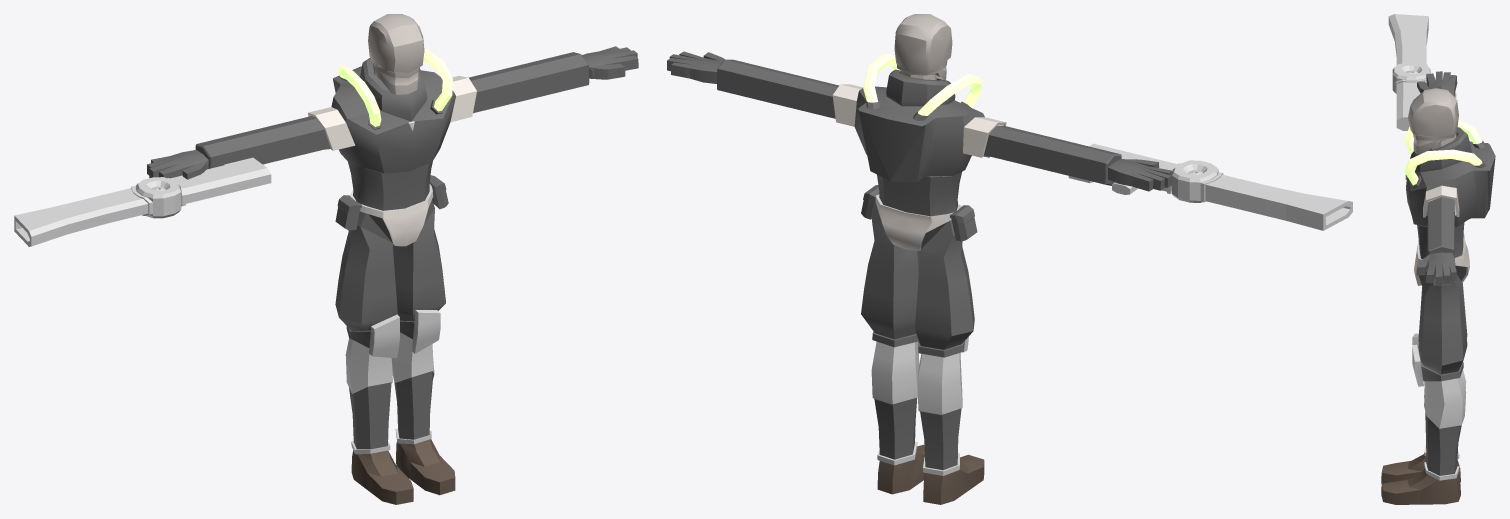
Rendered from Hell_Grunt_Rig2.fbx.
3 views of the same model, side by side, from view 1: azimuth 30°, elevation 25°; view 2: azimuth 150°, elevation 25°; view 3: azimuth 270°, elevation 25° (orthographic). The views are drawn at different scales.
Parts seen in each view (by area): view 1: Chest, Cube, Leg_left.001, Thigh_Right, Leg_left, Thigh_Left, Head, Stomach, ForeArm_Left, Pelvis, ForeArm_Right, Arm_Right (+6 smaller); view 2: Chest, Cube, Thigh_Right, Leg_left, Leg_left.001, Thigh_Left, Head, Stomach, ForeArm_Right, Pelvis, ForeArm_Left, Arm_Right (+3 smaller); view 3: Chest, Leg_left, Thigh_Left, Cube, Head, footback_left, ForeArm_Left, footfront_left, Pelvis, Arm_Left, footfront_right, Stomach (+5 smaller).
Part boxes in pixels (left/top/right/bottom): Chest: left=308, top=49, right=476, bottom=173; Cube: left=14, top=157, right=271, bottom=246; Leg_left.001: left=345, top=314, right=399, bottom=454; Thigh_Right: left=335, top=225, right=397, bottom=331; Leg_left: left=391, top=310, right=440, bottom=444; Thigh_Left: left=392, top=209, right=445, bottom=321; Head: left=368, top=14, right=424, bottom=94; Stomach: left=348, top=161, right=432, bottom=210; ForeArm_Left: left=507, top=52, right=589, bottom=101; Pelvis: left=349, top=184, right=434, bottom=246; ForeArm_Right: left=195, top=128, right=278, bottom=168; Arm_Right: left=263, top=116, right=330, bottom=160; Chest: left=832, top=54, right=1006, bottom=182; Cube: left=1068, top=143, right=1352, bottom=230; Thigh_Right: left=915, top=236, right=974, bottom=349; Leg_left: left=871, top=331, right=919, bottom=465; Leg_left.001: left=917, top=336, right=968, bottom=475; Thigh_Left: left=861, top=217, right=920, bottom=339; Head: left=894, top=14, right=952, bottom=80; Stomach: left=877, top=172, right=961, bottom=216; ForeArm_Right: left=1037, top=137, right=1121, bottom=185; Pelvis: left=871, top=194, right=961, bottom=250; ForeArm_Left: left=717, top=59, right=800, bottom=106; Arm_Right: left=983, top=125, right=1051, bottom=167; Chest: left=1404, top=119, right=1495, bottom=226; Leg_left: left=1412, top=344, right=1466, bottom=480; Thigh_Left: left=1418, top=280, right=1467, bottom=374; Cube: left=1388, top=14, right=1456, bottom=130; Head: left=1408, top=88, right=1458, bottom=154; footback_left: left=1407, top=468, right=1460, bottom=504; ForeArm_Left: left=1427, top=217, right=1454, bottom=257; footfront_left: left=1381, top=479, right=1421, bottom=504; Pelvis: left=1414, top=234, right=1469, bottom=285; Arm_Left: left=1426, top=197, right=1456, bottom=235; footfront_right: left=1381, top=461, right=1422, bottom=483; Stomach: left=1417, top=222, right=1464, bottom=258.
Size of the model in its own units: 272 by 188 by 48.95.
